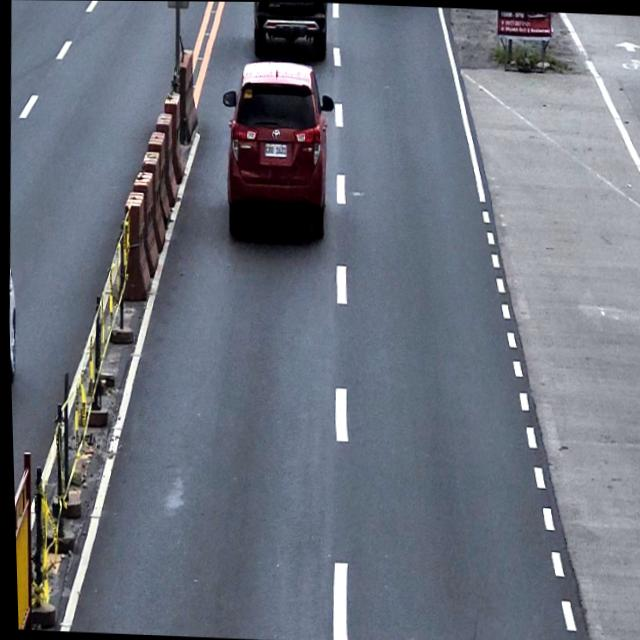Car: (216, 55, 340, 241), (249, 1, 327, 62)
License-Plate: (262, 140, 286, 156)
